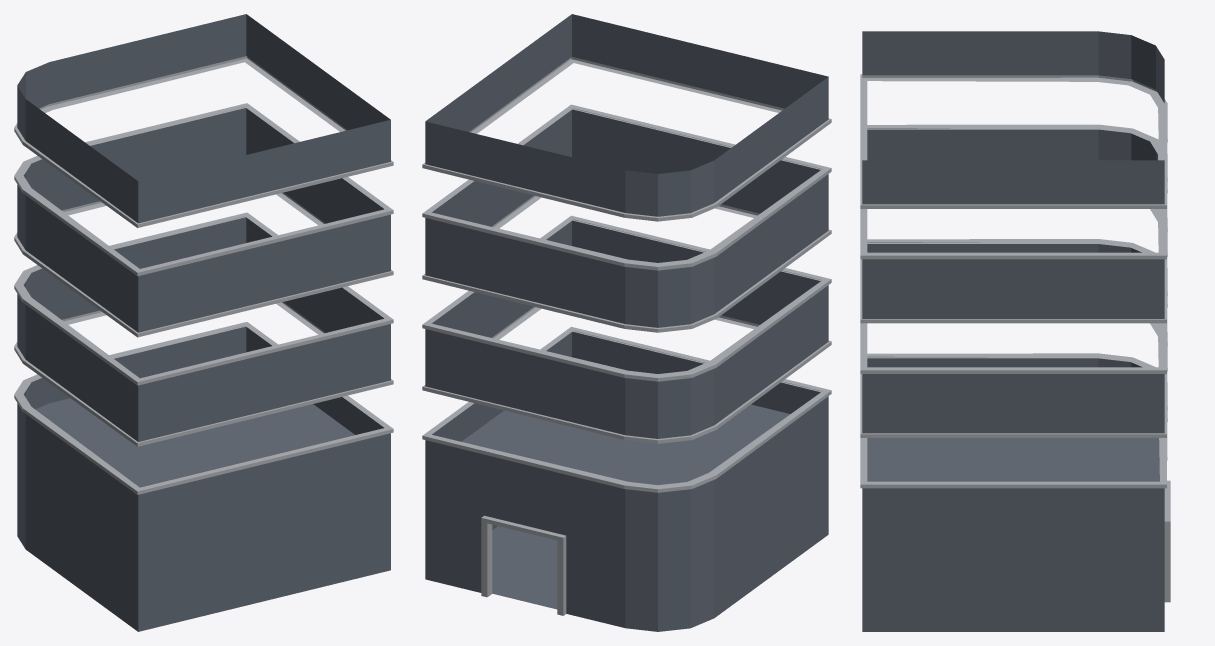
File: Bld_O_high_L2_C.fbx
The picture shows the model from 3 angles, left to right: view 1: azimuth 30°, elevation 25°; view 2: azimuth 150°, elevation 25°; view 3: azimuth 270°, elevation 25°; orthographic projection. The views are drawn at different scales.
Visible parts, largest first — view 1: Bld_O_high_L2_C_LOD0; view 2: Bld_O_high_L2_C_LOD0; view 3: Bld_O_high_L2_C_LOD0.
Boxes of the visible parts, box(x1,y1,x2,y2) form: Bld_O_high_L2_C_LOD0: box(14, 14, 393, 631); Bld_O_high_L2_C_LOD0: box(422, 14, 831, 631); Bld_O_high_L2_C_LOD0: box(860, 31, 1170, 631).
Size of what is drawn, in the model's own units: 1380 by 2447 by 1513.
1 material, 1 textured.
